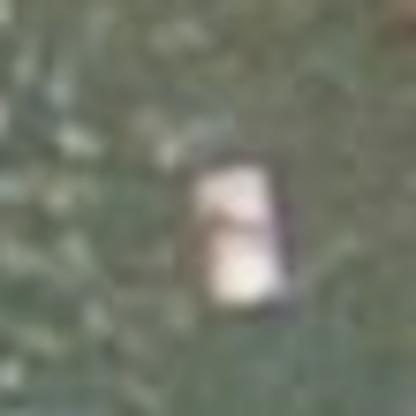ship: (162, 149, 308, 321)
